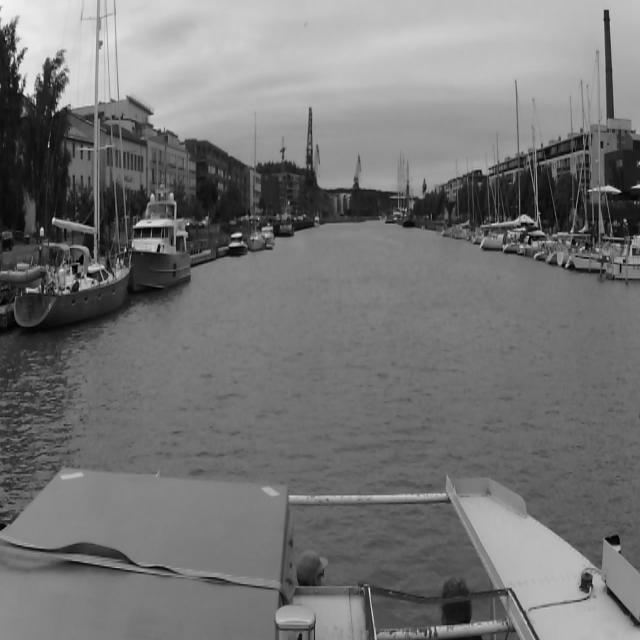ship: (10, 5, 134, 331), (569, 47, 604, 275), (479, 78, 524, 252), (133, 172, 191, 290), (450, 144, 480, 244), (248, 112, 264, 251), (604, 235, 640, 282), (278, 200, 294, 236), (228, 233, 248, 257), (264, 222, 274, 241), (264, 242, 274, 250), (314, 215, 320, 228)
